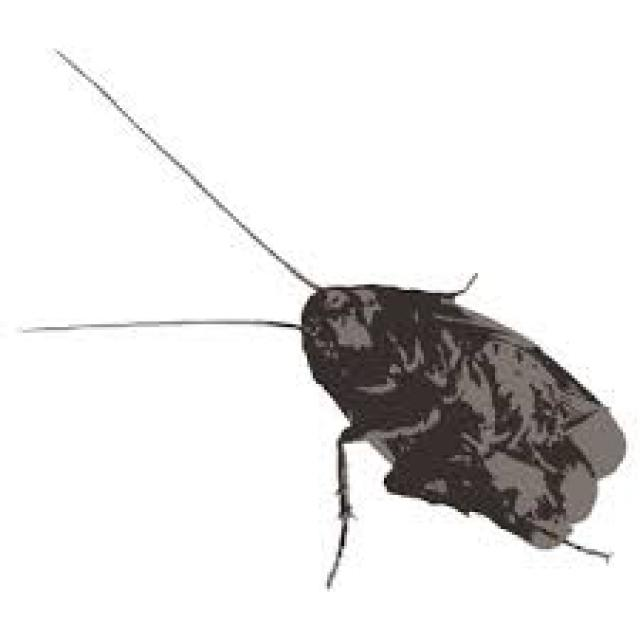Cockroach: (13, 42, 630, 590)
